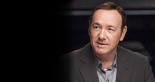male: (86, 4, 130, 59)
